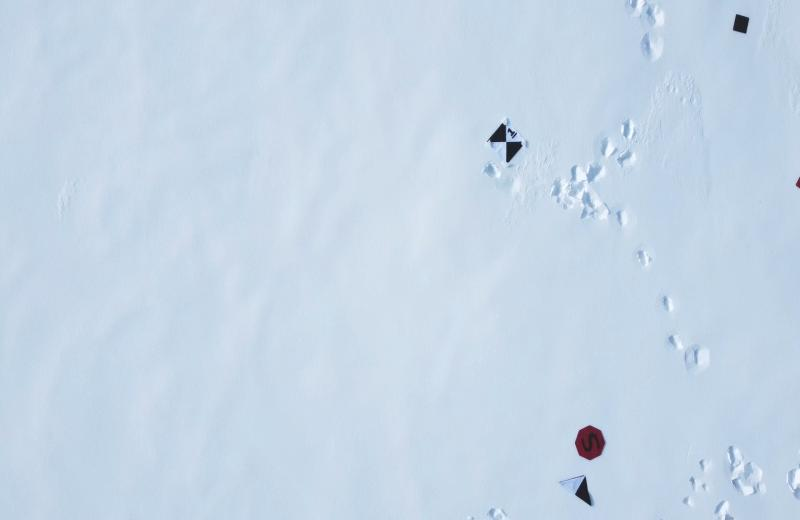Octagon: (572, 421, 610, 466)
Square: (729, 13, 752, 38)
